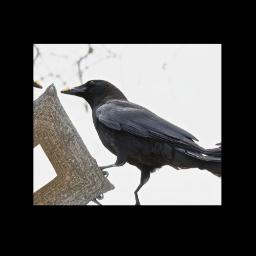Crow: (42, 72, 215, 205)
